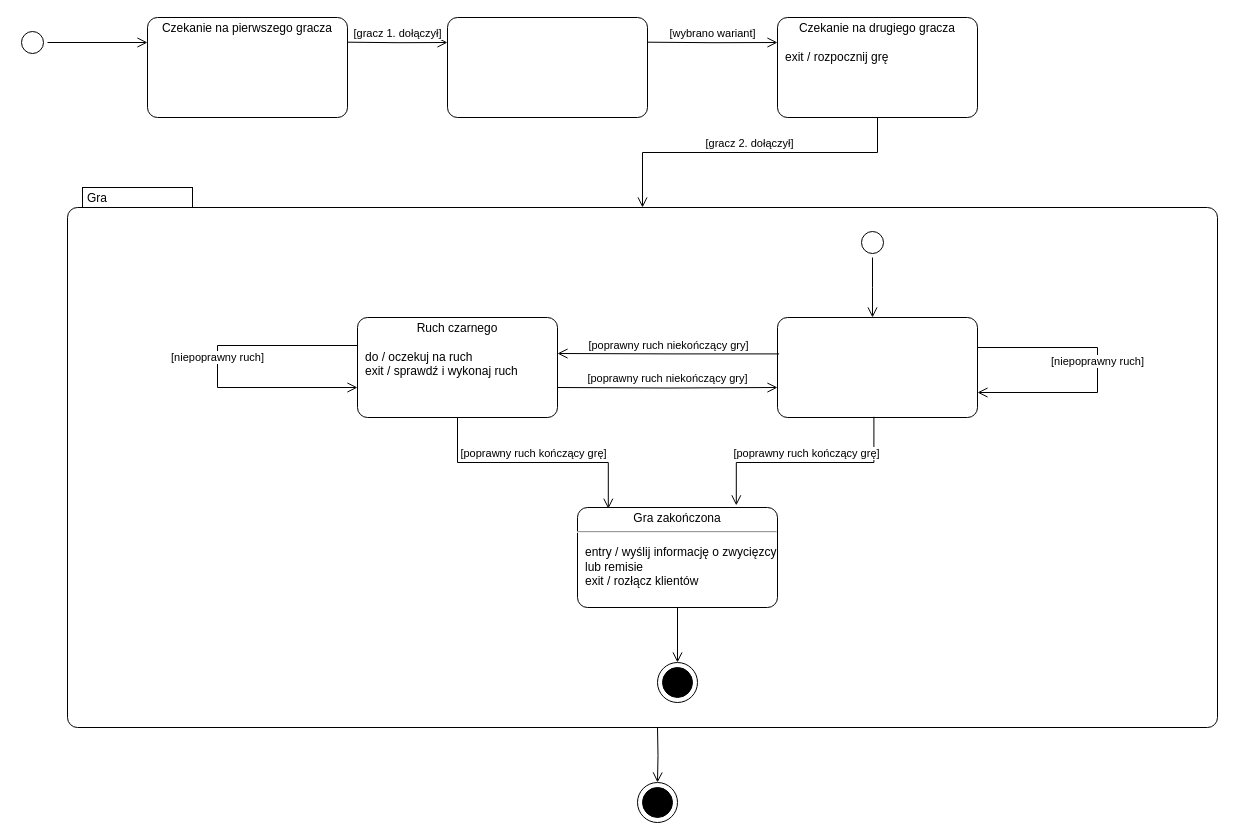
Some shapes in this 1235 by 840 pixel diagram are drawn without their labels. The centre of each missing label's shape, as x and y in pixels:
Ruch białego do / oczekuj na ruch exit / sprawdź i wykonaj ruch: [877,367]
Wybieranie wariantu do / oczekuj na wybór wariantu exit / ustaw wariant: [547,67]
